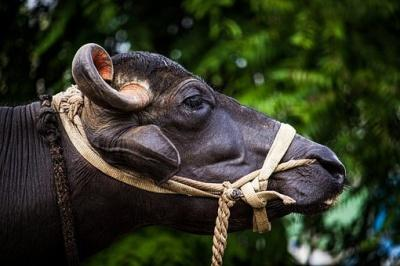buffalo: (0, 43, 345, 265)
